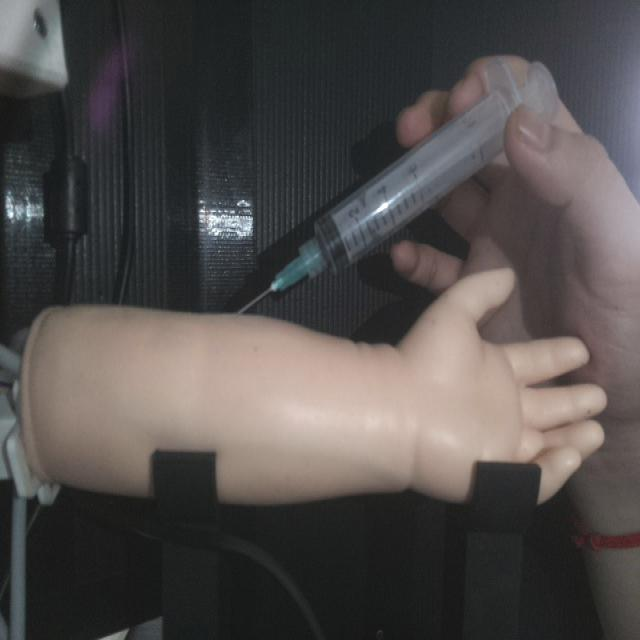Above 30 degrees: (229, 53, 559, 316)
